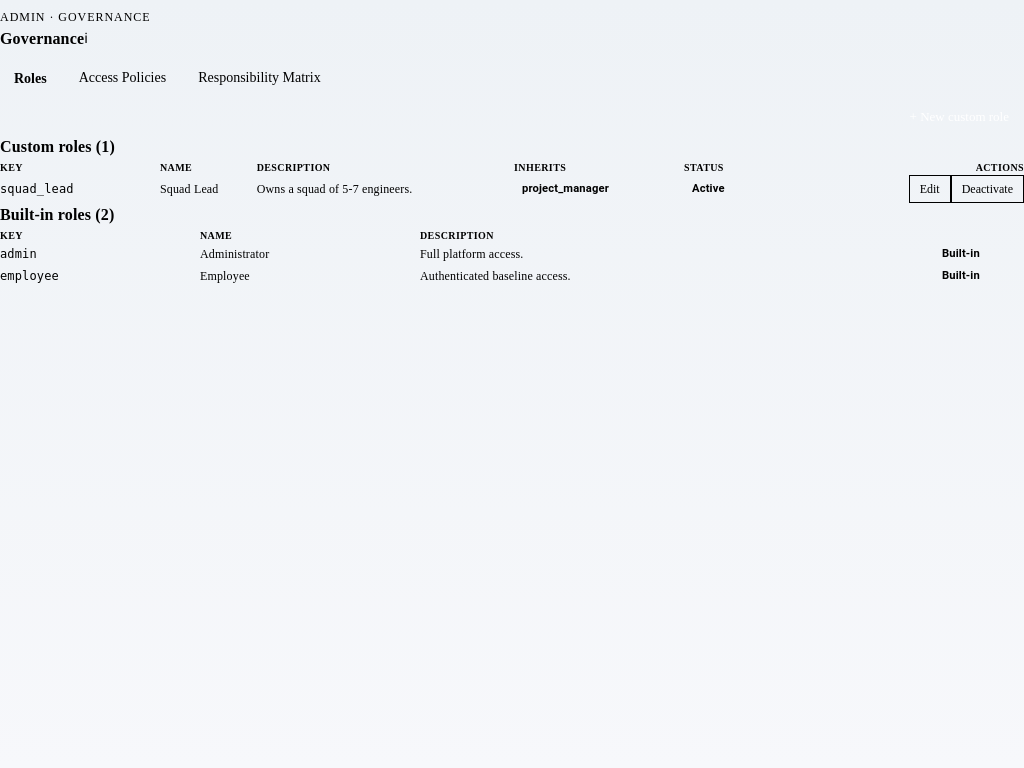
Test: CustomRoleAdminPage (NEW-LGL-3) › opens the edit form prefilled with roleKey disabled
Expected: the text "Squad Lead" is shown, [160, 182, 218, 196]
Click the button "Edit": (930,189) [909, 175, 951, 203]
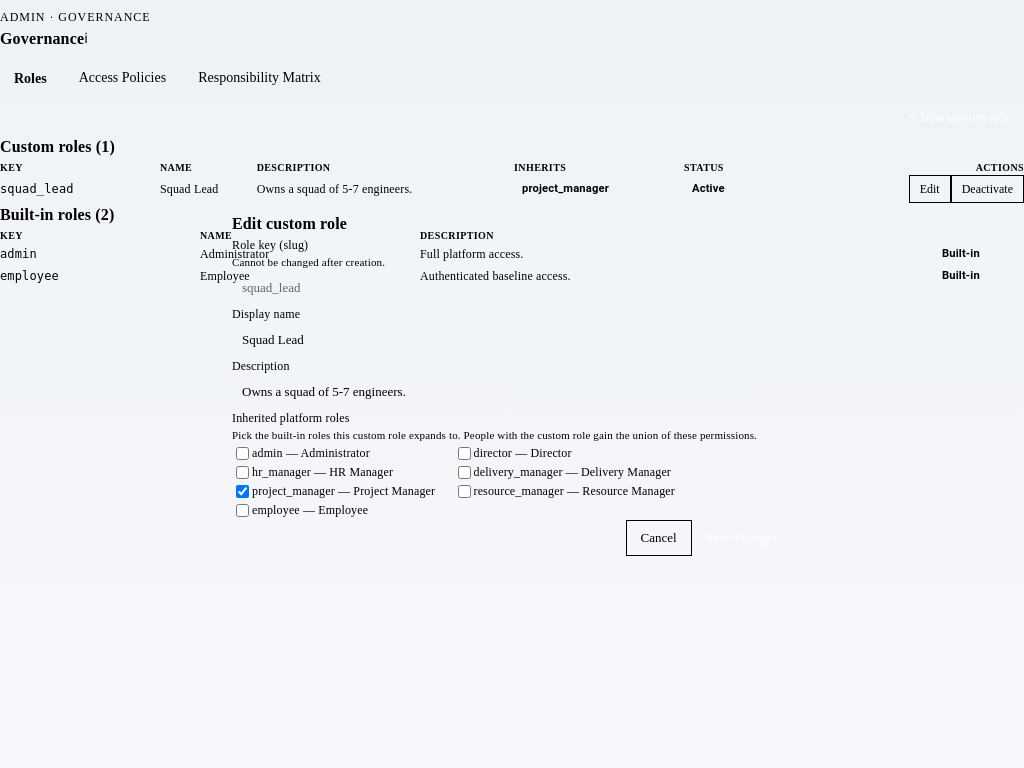
Expected: the heading "Edit custom role" is shown, [232, 215, 347, 232]
Expected: the field below "Cannot be changed after creation." is disabled, [232, 271, 792, 305]
Expected: the field below "Cannot be changed after creation." holds "squad_lead", [232, 271, 792, 305]
Replace the text in the field below "Display name" with "Squad Lead (renamed)": (512,340) [232, 323, 792, 357]
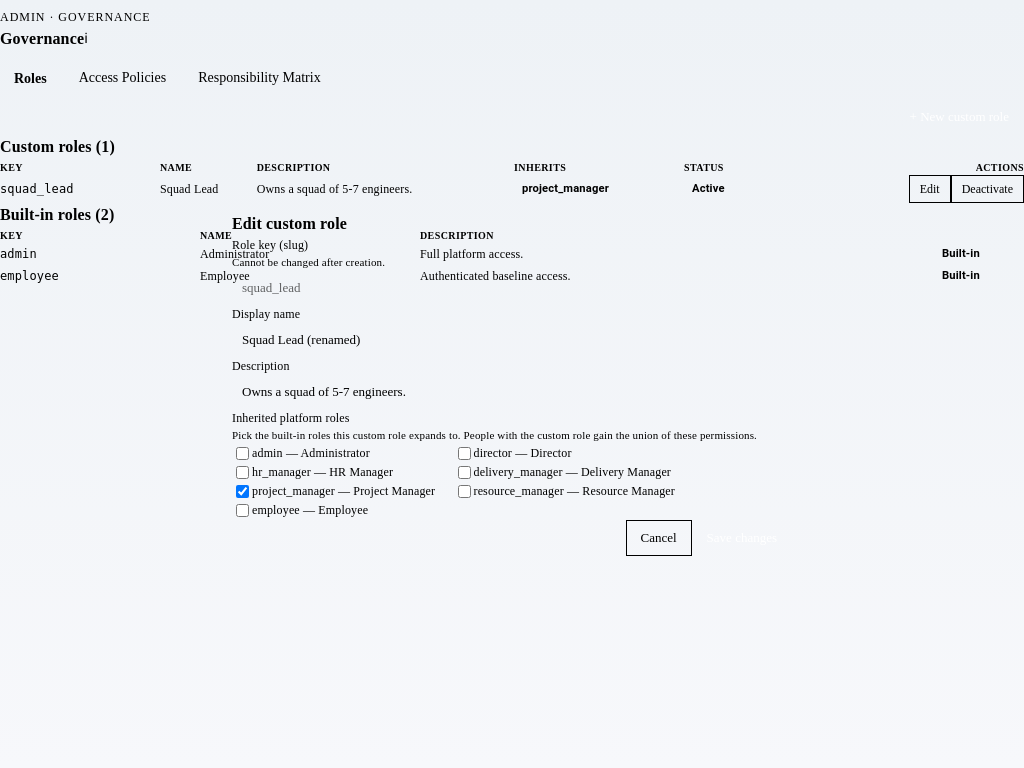
Click the button "Save changes": (742,538) [692, 520, 792, 556]
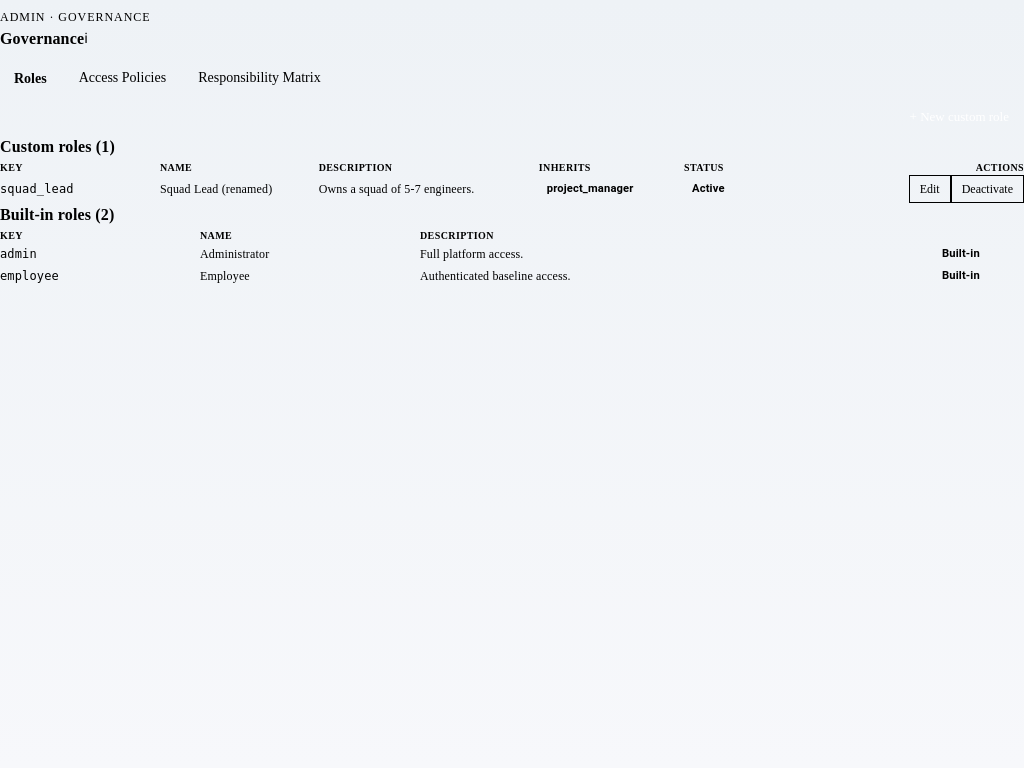
Expected: the text "Squad Lead" reads "Squad Lead (renamed)", [160, 182, 272, 196]
